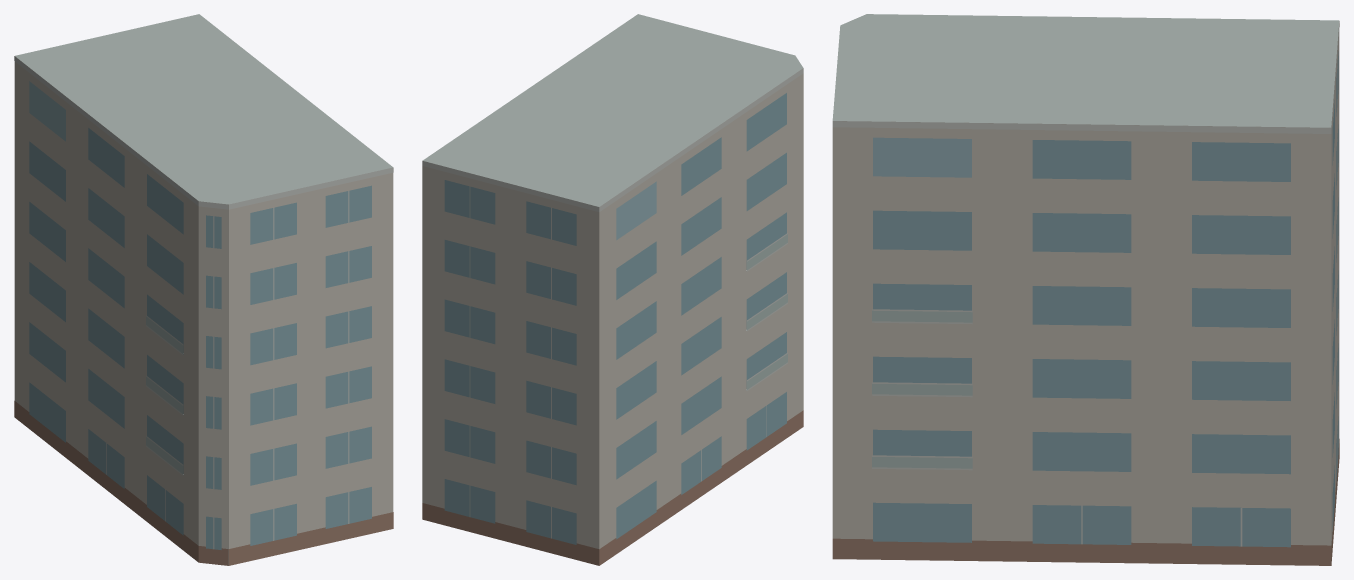
File: survey-upis-32564781.glb
3 renders of one model, left to right at view 1: azimuth 30°, elevation 25°; view 2: azimuth 150°, elevation 25°; view 3: azimuth 270°, elevation 25°, orthographic. The views are drawn at different scales.
Parts seen in each view (by area): view 1: survey-upis-32564781.tmp; view 2: survey-upis-32564781.tmp; view 3: survey-upis-32564781.tmp.
Boxes of the visible parts, <box> form: survey-upis-32564781.tmp: <box>14,14,393,565</box>; survey-upis-32564781.tmp: <box>422,14,803,565</box>; survey-upis-32564781.tmp: <box>832,14,1339,565</box>.
Size of the model in its own units: 9.42 by 16.9 by 17.73.
